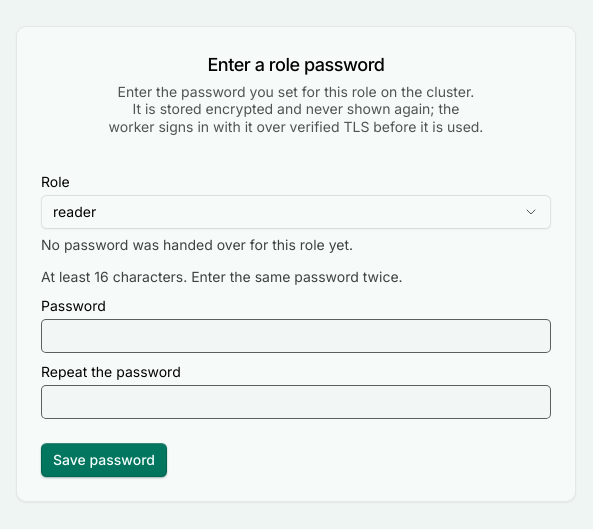
Test: the credentials hand-off › sends nothing for a password shorter than 16 characters, and empties both fields
The image size is (593, 529).
expect the heading "Enter a role password" is shown: met, box [208,51,385,79]
Type "short password" into the password field with id "credential-password". click: (296, 336)
box: [41,319,551,353]
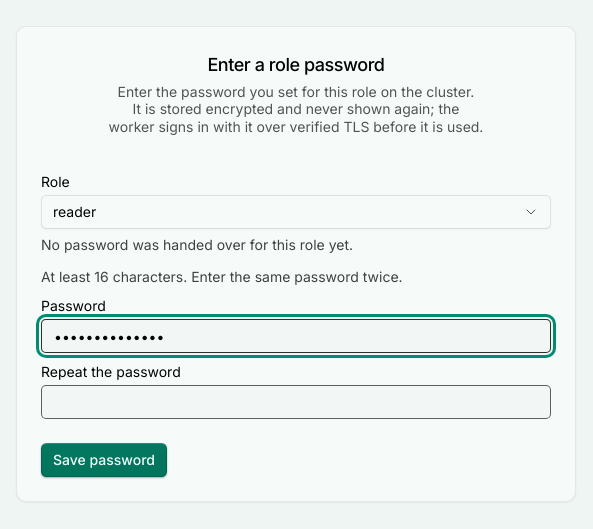
Type "short password" into the password field with id "credential-confirm". click: (296, 402)
box: [41,385,551,419]
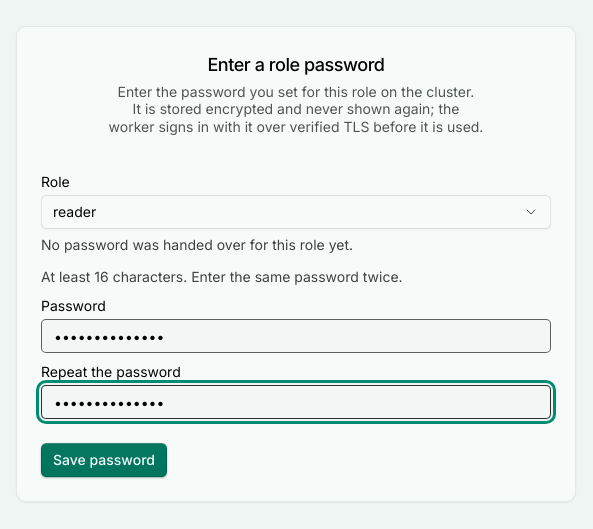
Click the button "Save password". click: (104, 460)
box: [41,443,167,477]
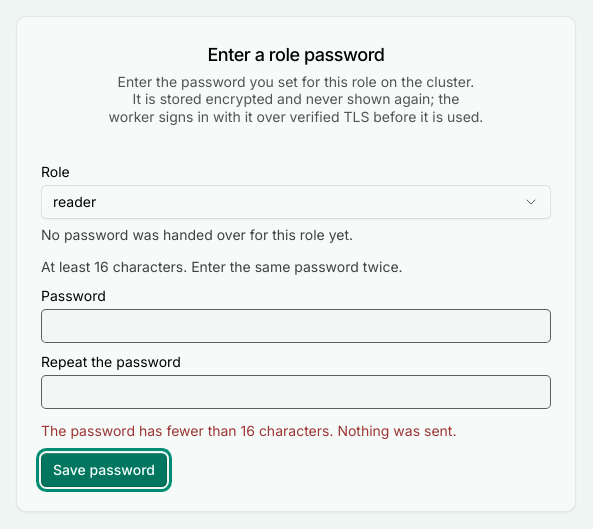
expect the message reads "The password has fewer than 16 characters. Nothing was sent.": met, box [41,422,456,439]
expect the password field with id "credential-password" is empty: met, box [41,309,551,343]
expect the password field with id "credential-confirm" is empty: met, box [41,375,551,409]
